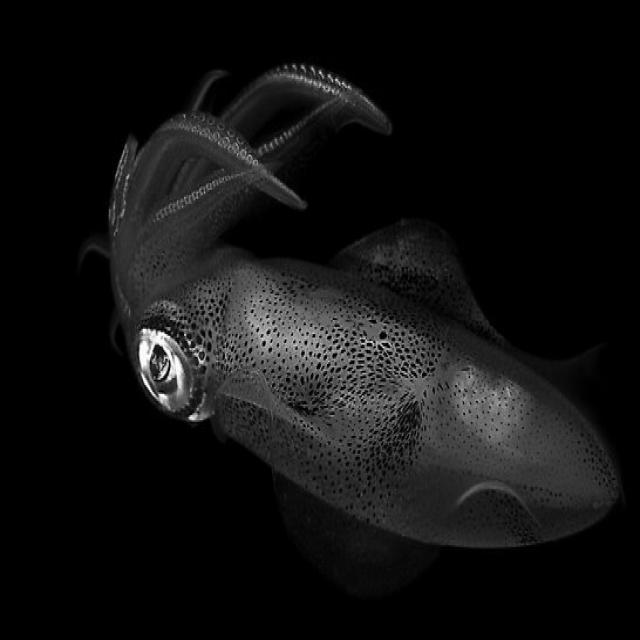SQUID: (78, 30, 625, 585)
